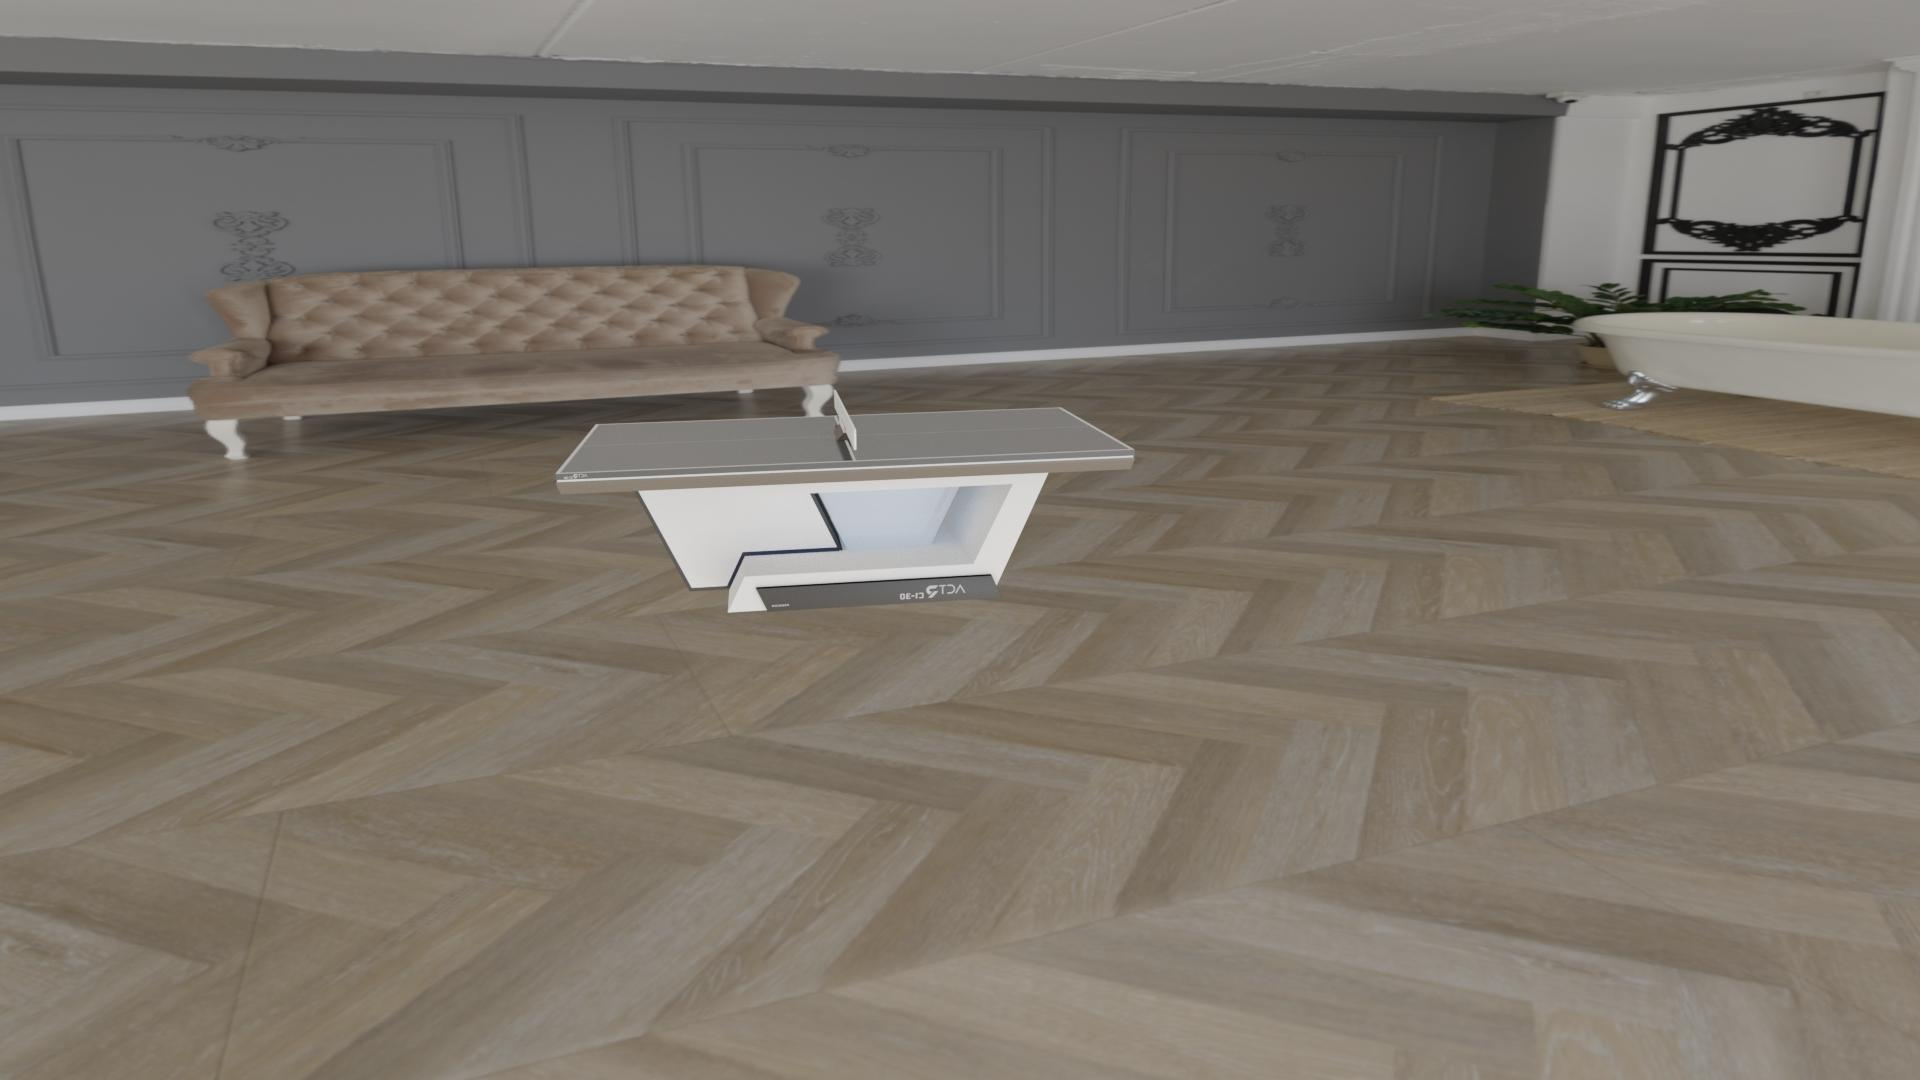table: (560, 407, 1130, 473)
